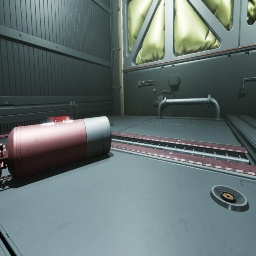FireExtinguisher ]: (46, 116, 74, 123)
NitrogenTank ,: (0, 116, 112, 181)
